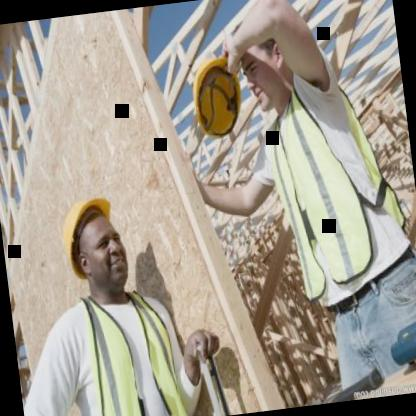helmet: (54, 169, 139, 310)
